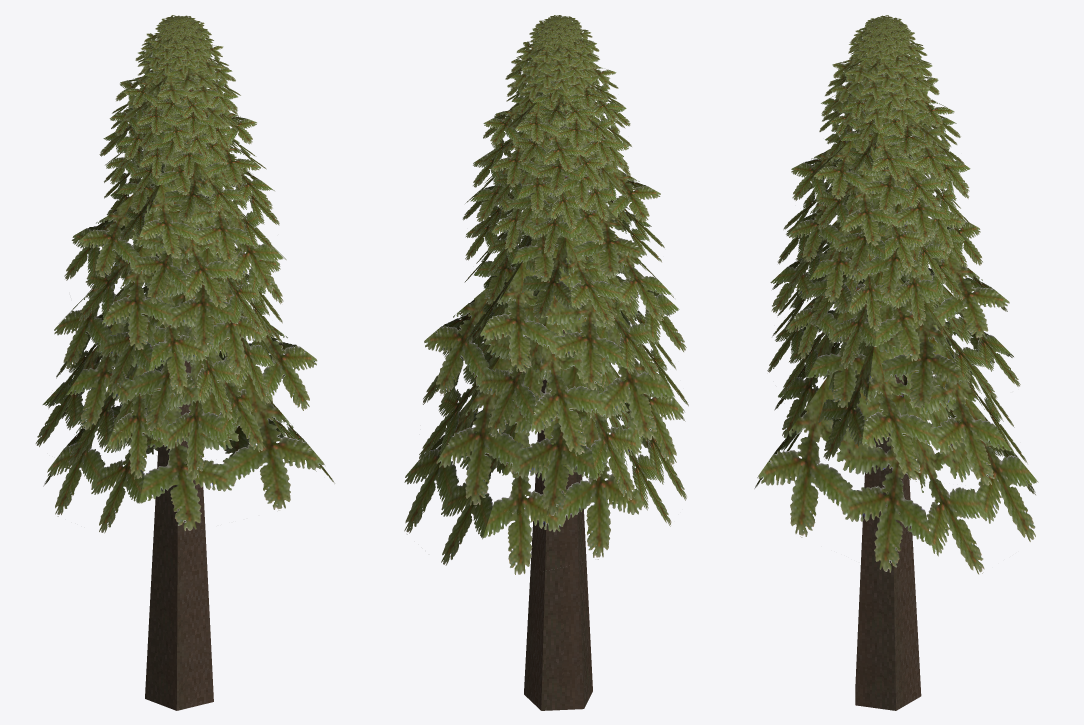
The model's file is tree.glb.
3 views of the same model, side by side, from view 1: azimuth 30°, elevation 25°; view 2: azimuth 150°, elevation 25°; view 3: azimuth 270°, elevation 25° (orthographic).
Parts seen in each view (by area): view 1: Tree; view 2: Tree; view 3: Tree.
Boxes of the visible parts, x1,y1,x2,y2 form: Tree: (35,15,334,710); Tree: (404,15,688,710); Tree: (754,15,1038,710).
Size of the model in its own units: 4.6 by 10.23 by 4.58.
2 materials, 2 textured.
